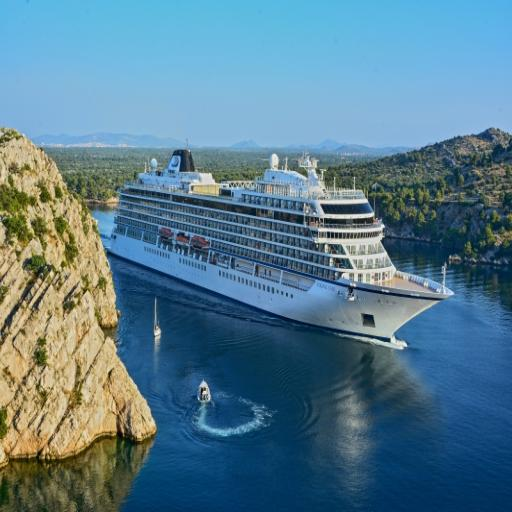cruises: (102, 143, 457, 356)
